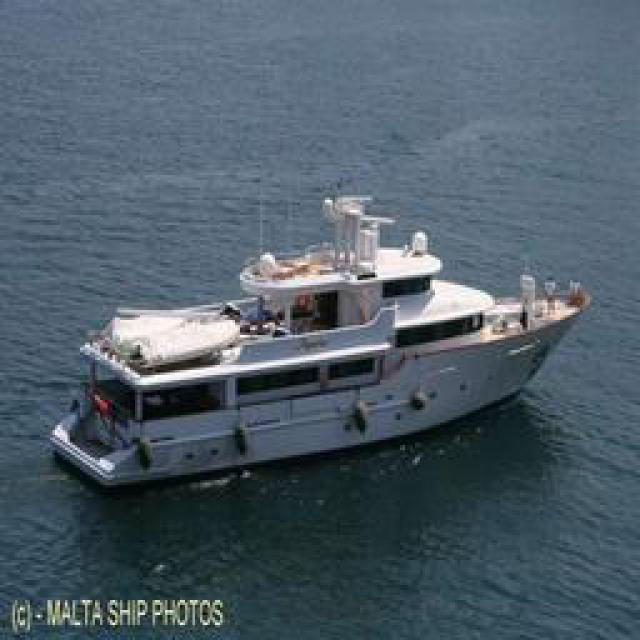Ship: (50, 213, 598, 498)
